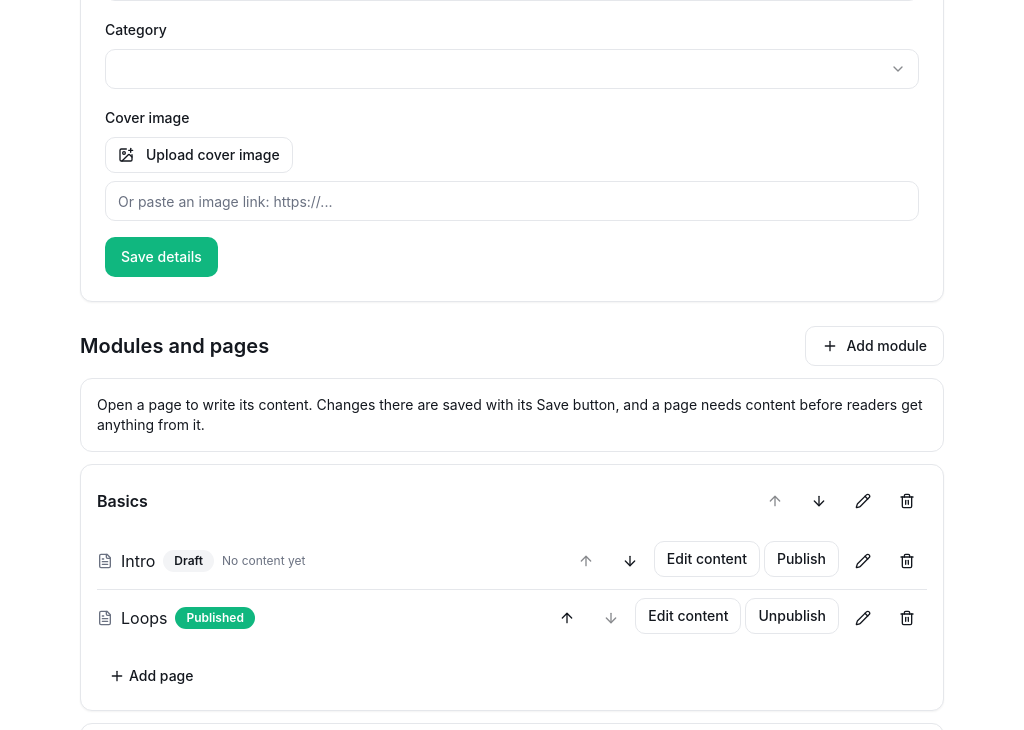
Scenario: modules › adds a module (title required) and shows it after the refresh
The image size is (1024, 730).
(page scrolled)
Click the button "Add module".
click(875, 346)  # box [805,326,944,366]
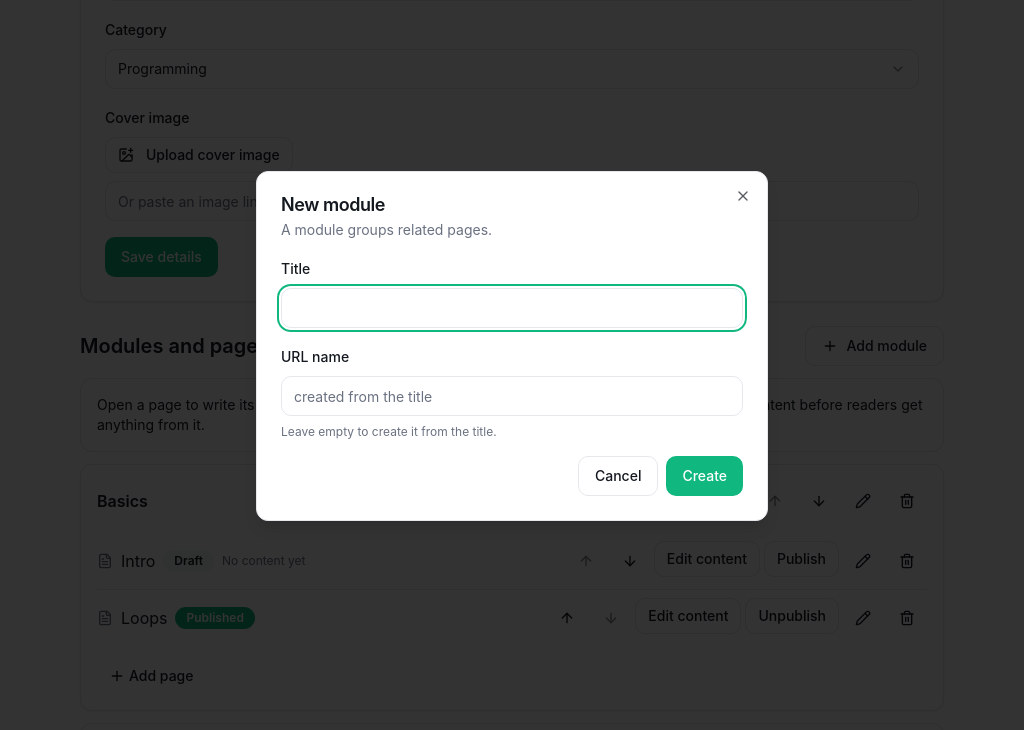
Click the button "Create".
click(705, 476)  # box [666,456,743,496]
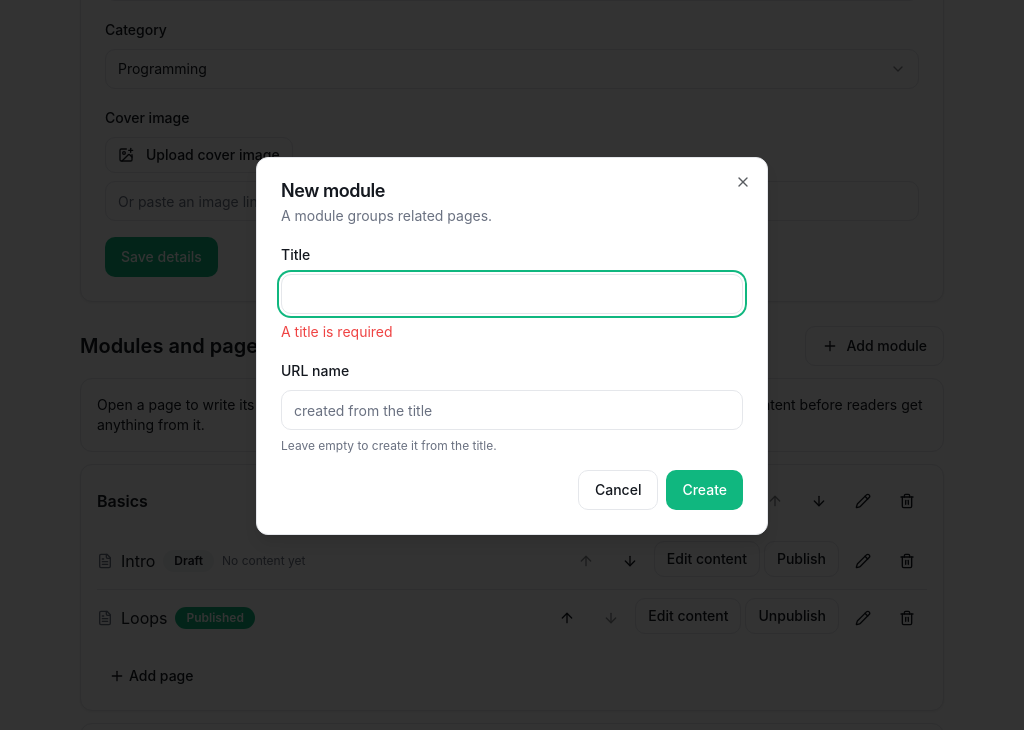
expect the text "A title is required" is shown: met, box [281,323,393,340]
Type "Testing" into the field labelled "Title".
click(512, 294); type("Testing")  # box [281,274,743,314]
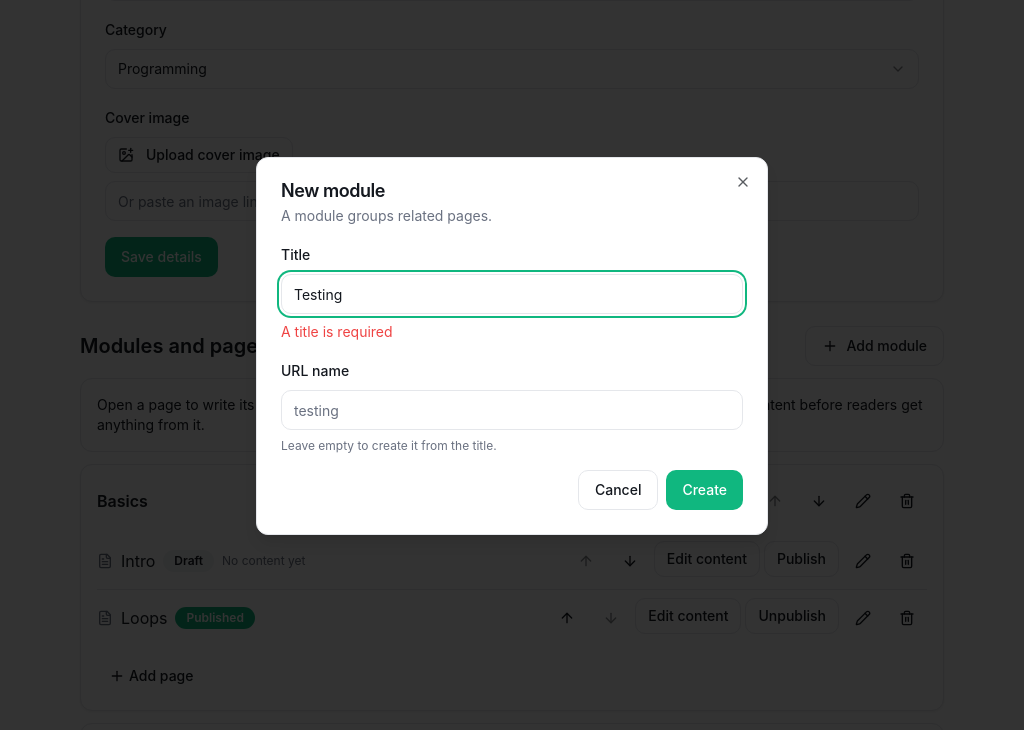
Click the button "Create".
click(705, 490)  # box [666,470,743,510]
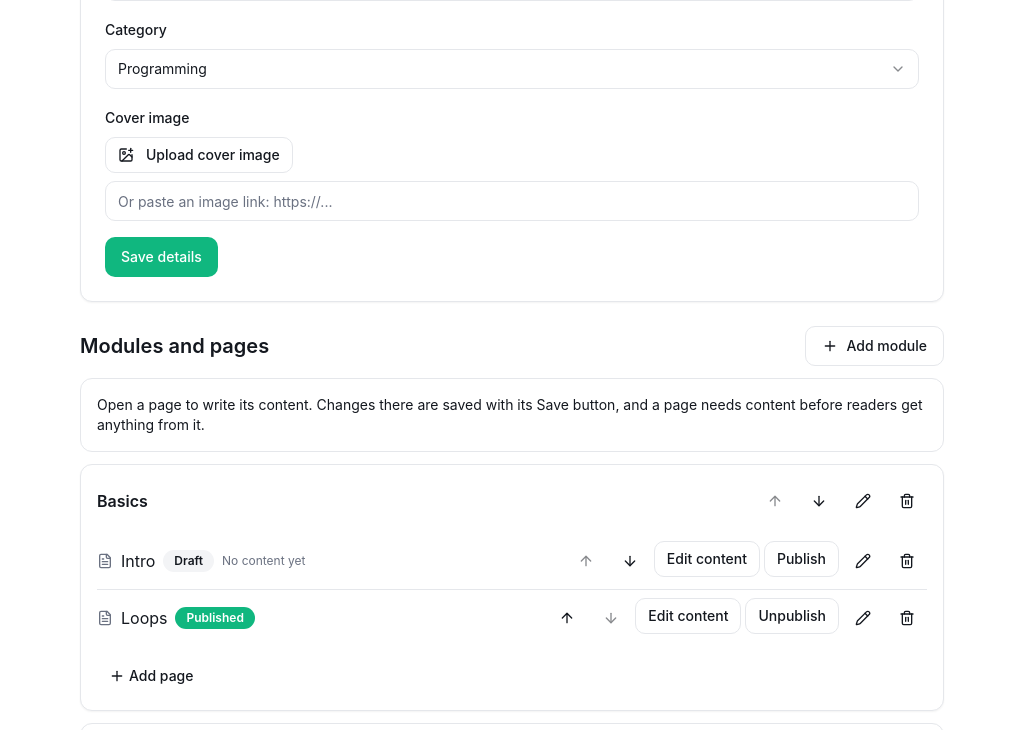
expect the dialog is gone: met
